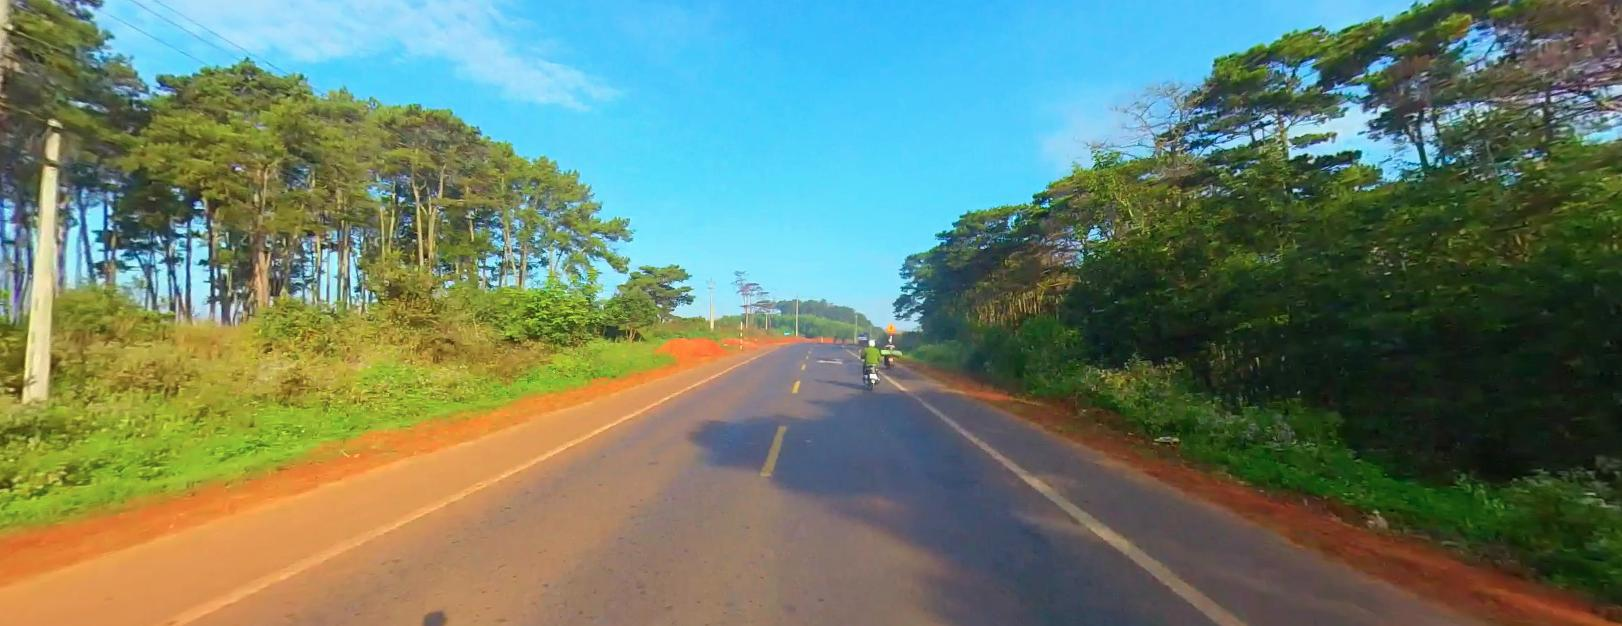Nguy hiem: (885, 321, 896, 332)
